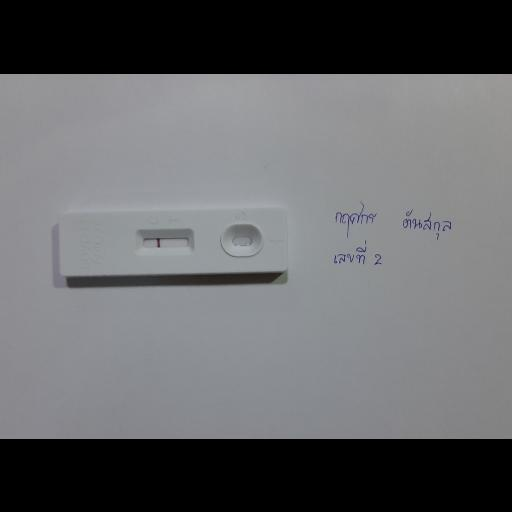Neg: (60, 208, 284, 276)
